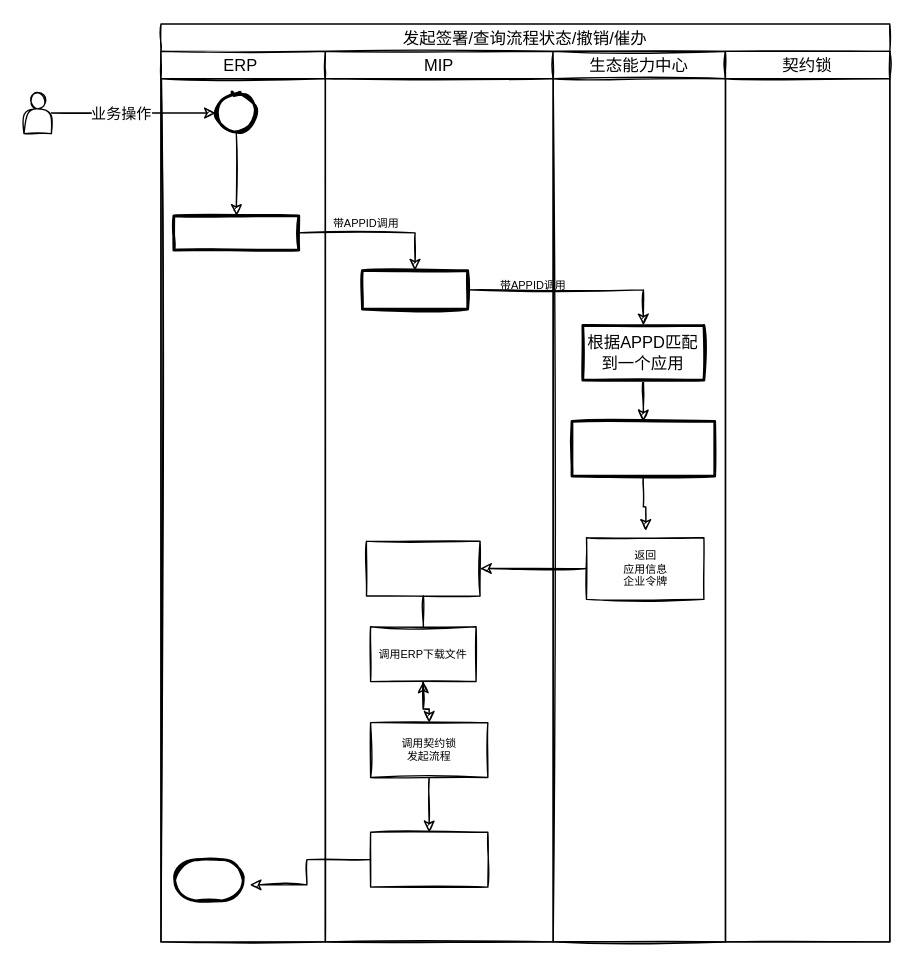
Image size: 914x966. Some labels were removed from this diagram. Each missing label, with the centre of its shape:
"封装业务数据" goes at point (235, 232).
"接受请求" goes at point (414, 289).
"查找连接器" goes at point (422, 568).
"根据项目ID匹配到契约锁企业" goes at point (642, 448).
"返回调用结果" goes at point (428, 859).
